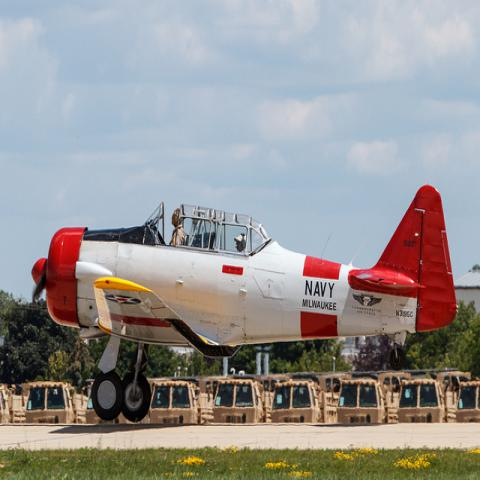truck: (270, 380, 340, 422), (147, 380, 214, 423), (211, 380, 266, 423), (336, 380, 385, 424), (26, 383, 77, 424), (398, 380, 446, 422), (0, 386, 28, 422), (456, 380, 479, 423)
